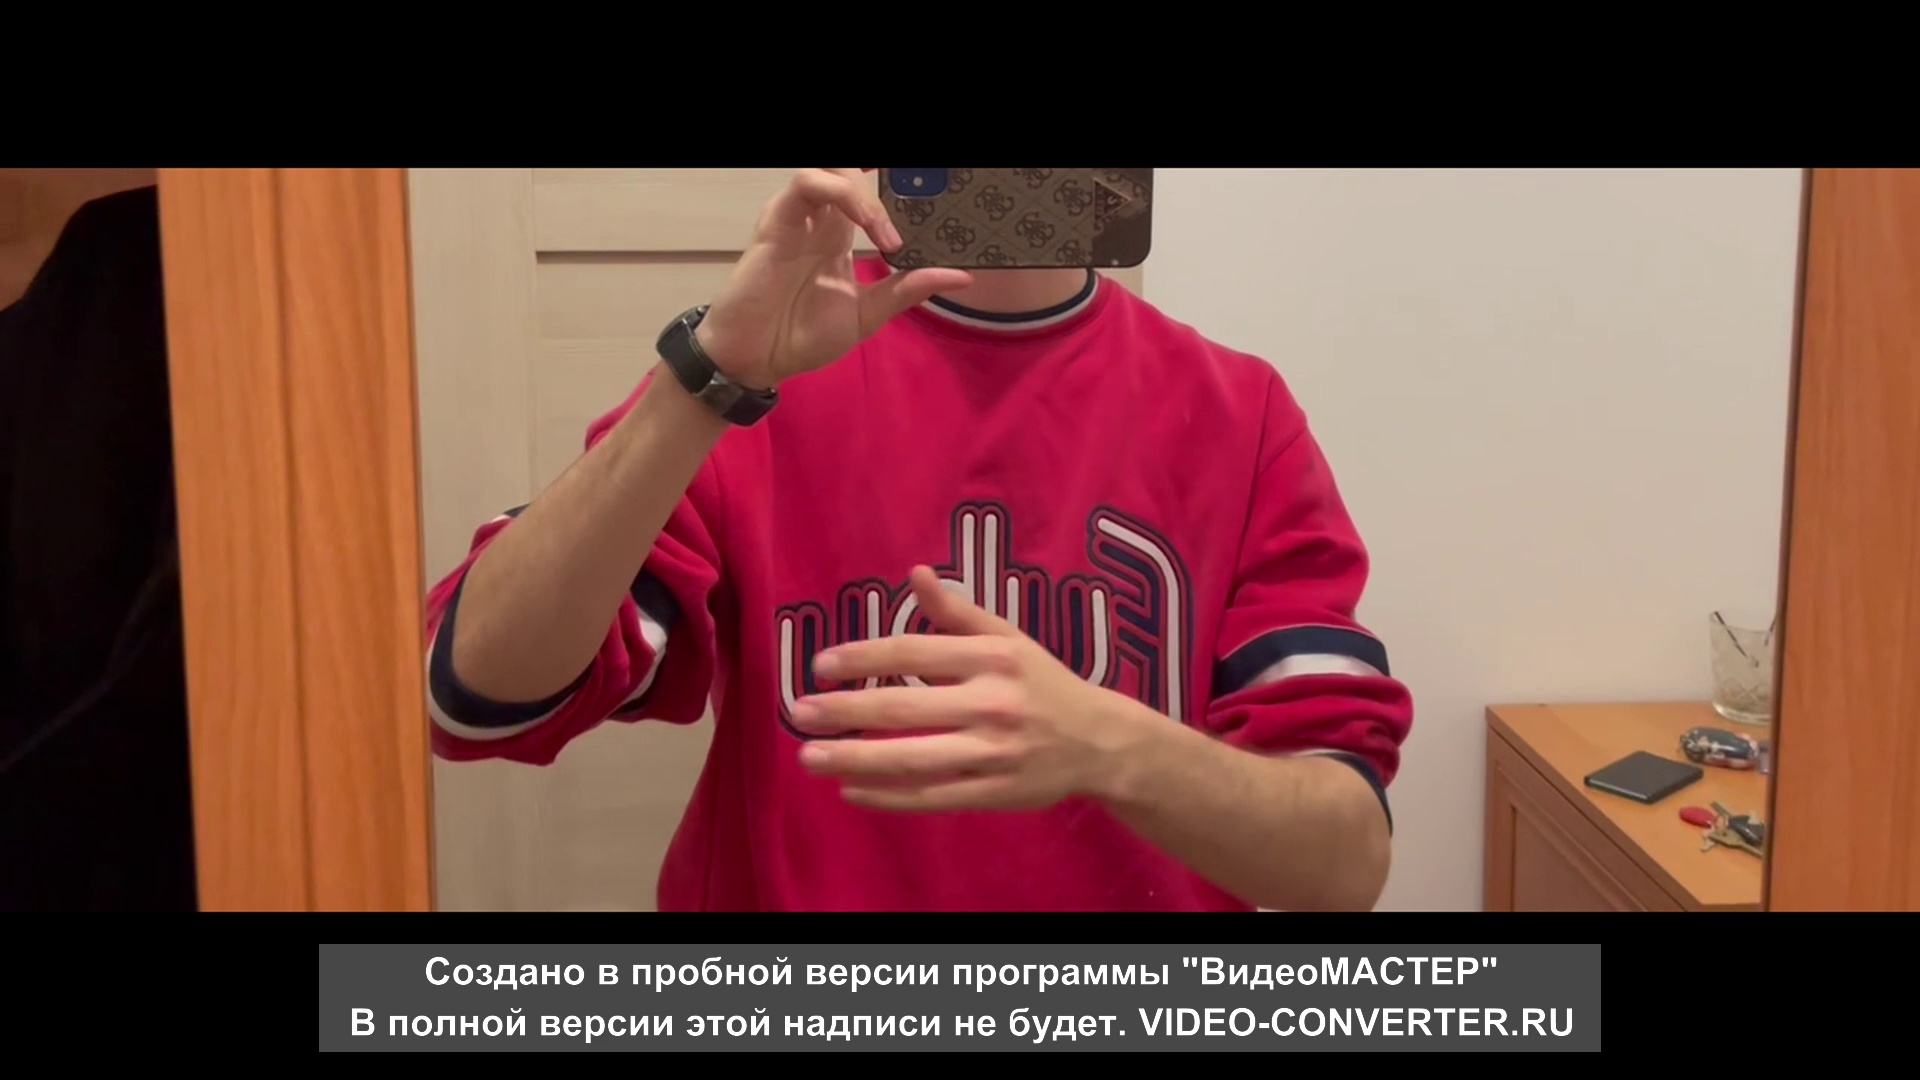Кисть: (795, 558, 1096, 812)
